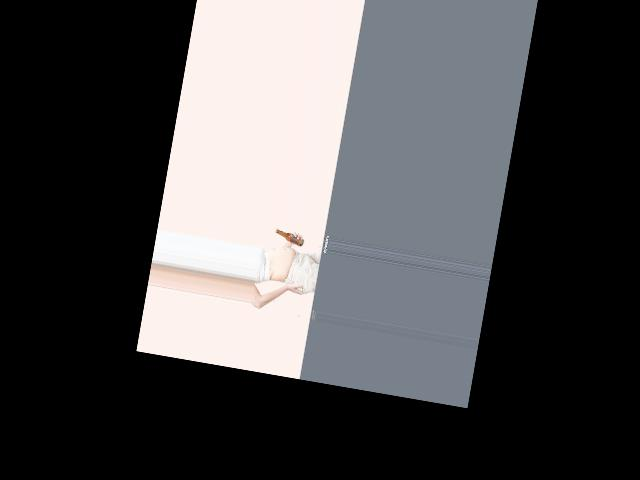beer: (274, 229, 306, 247)
